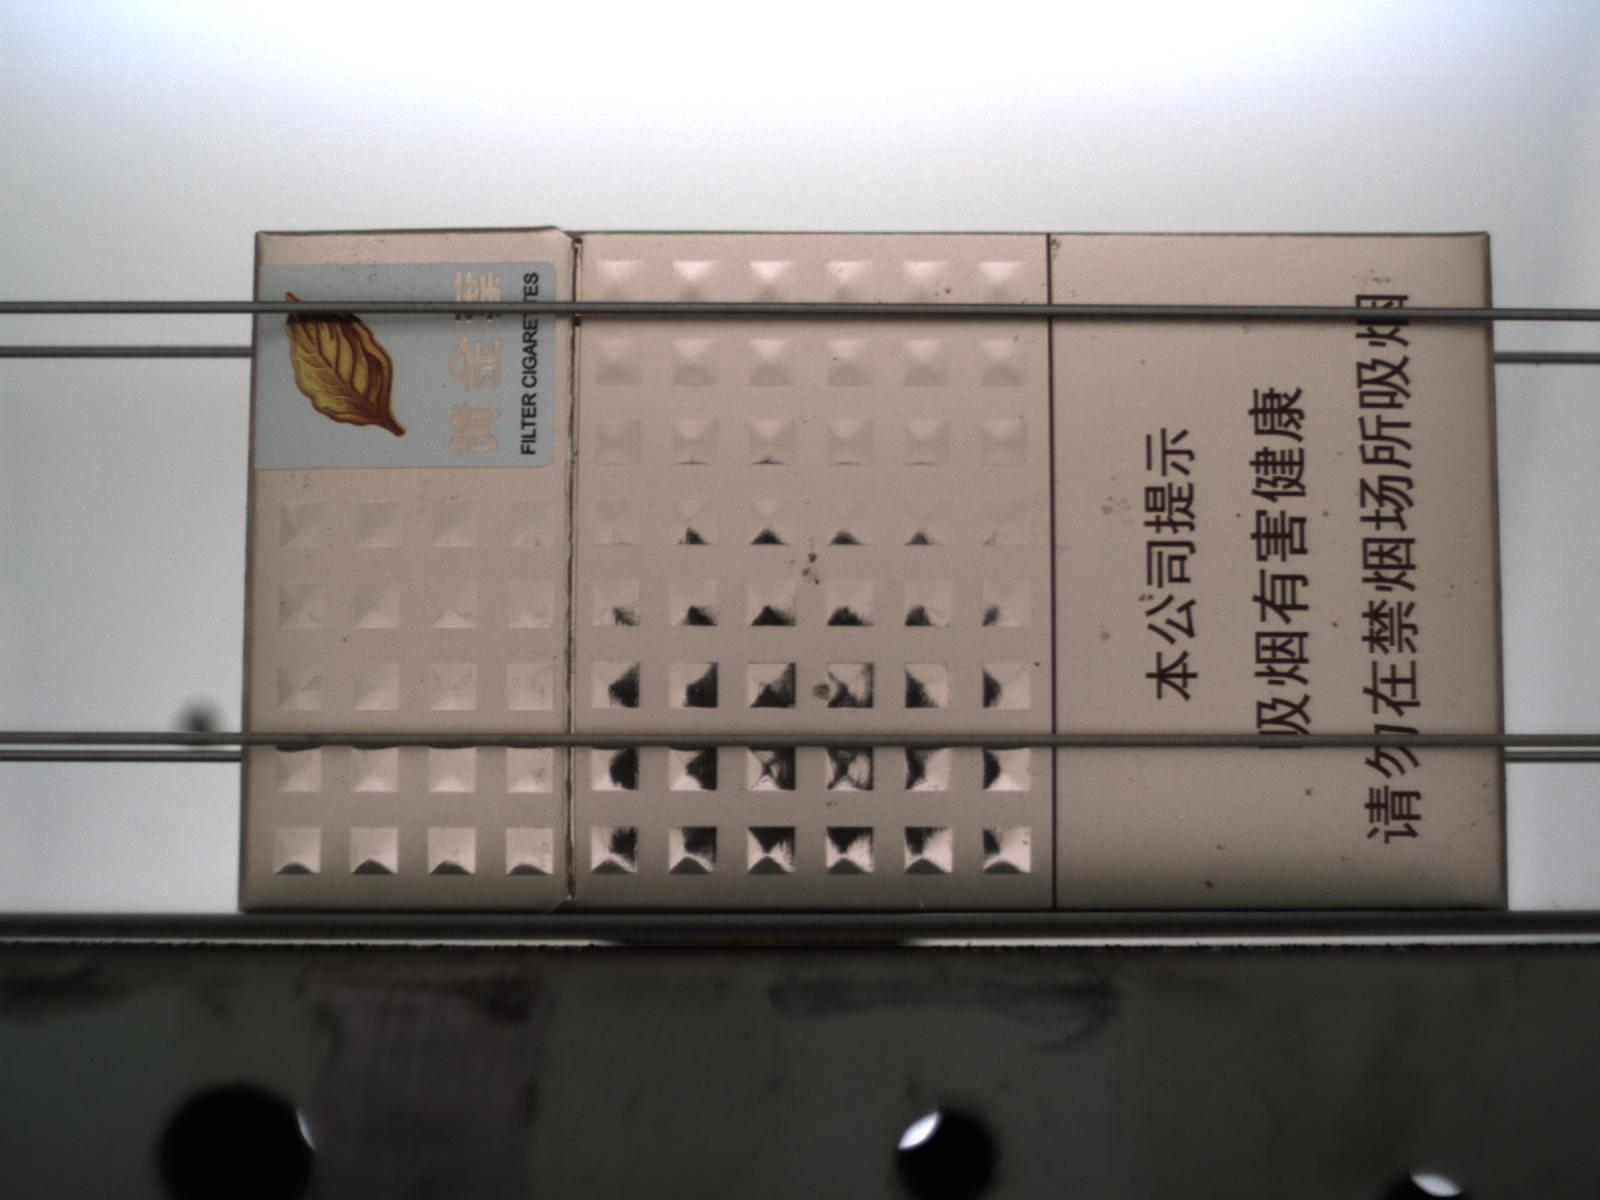dirtySpot: (800, 550, 819, 584), (806, 565, 823, 586), (791, 557, 808, 574), (1136, 591, 1151, 606), (1099, 628, 1112, 644), (1372, 268, 1386, 281), (1304, 787, 1317, 800), (1213, 841, 1226, 853), (1203, 879, 1217, 890), (1101, 503, 1112, 516), (1469, 818, 1482, 829), (1240, 324, 1251, 337), (1443, 843, 1454, 855), (1339, 853, 1351, 865), (1335, 449, 1346, 461), (1480, 779, 1490, 792), (1060, 543, 1070, 555), (1174, 814, 1184, 824), (1020, 838, 1031, 848), (378, 236, 388, 246), (1448, 582, 1458, 592), (1052, 238, 1062, 248), (1034, 659, 1044, 669), (1461, 532, 1470, 542), (1107, 473, 1117, 482), (826, 800, 837, 809), (1319, 325, 1329, 334), (1010, 334, 1020, 343), (942, 286, 952, 295), (340, 637, 350, 645), (1140, 358, 1149, 368), (1330, 620, 1340, 629), (1322, 509, 1332, 518), (801, 417, 810, 426), (1473, 579, 1482, 587), (1020, 296, 1029, 305), (1031, 519, 1039, 528), (837, 267, 845, 276), (1070, 289, 1078, 297), (1090, 333, 1099, 342), (1235, 512, 1243, 521), (1019, 412, 1027, 421), (803, 498, 811, 505), (831, 354, 840, 362), (451, 494, 460, 502)
